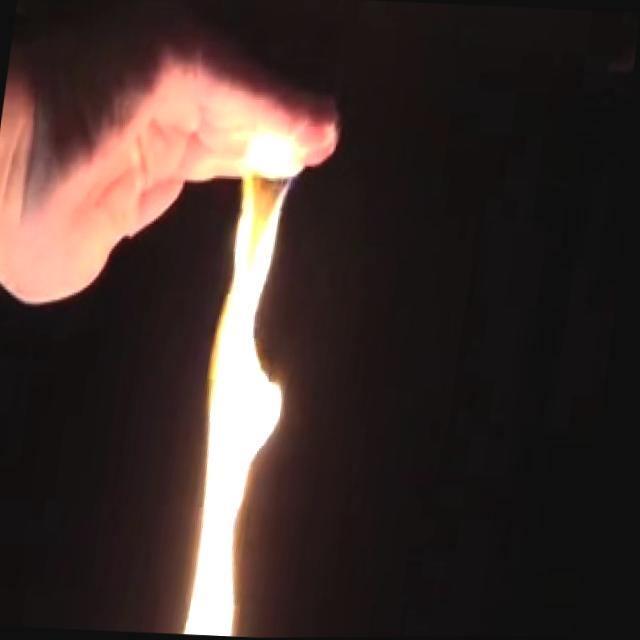helmet: (160, 126, 320, 636)
